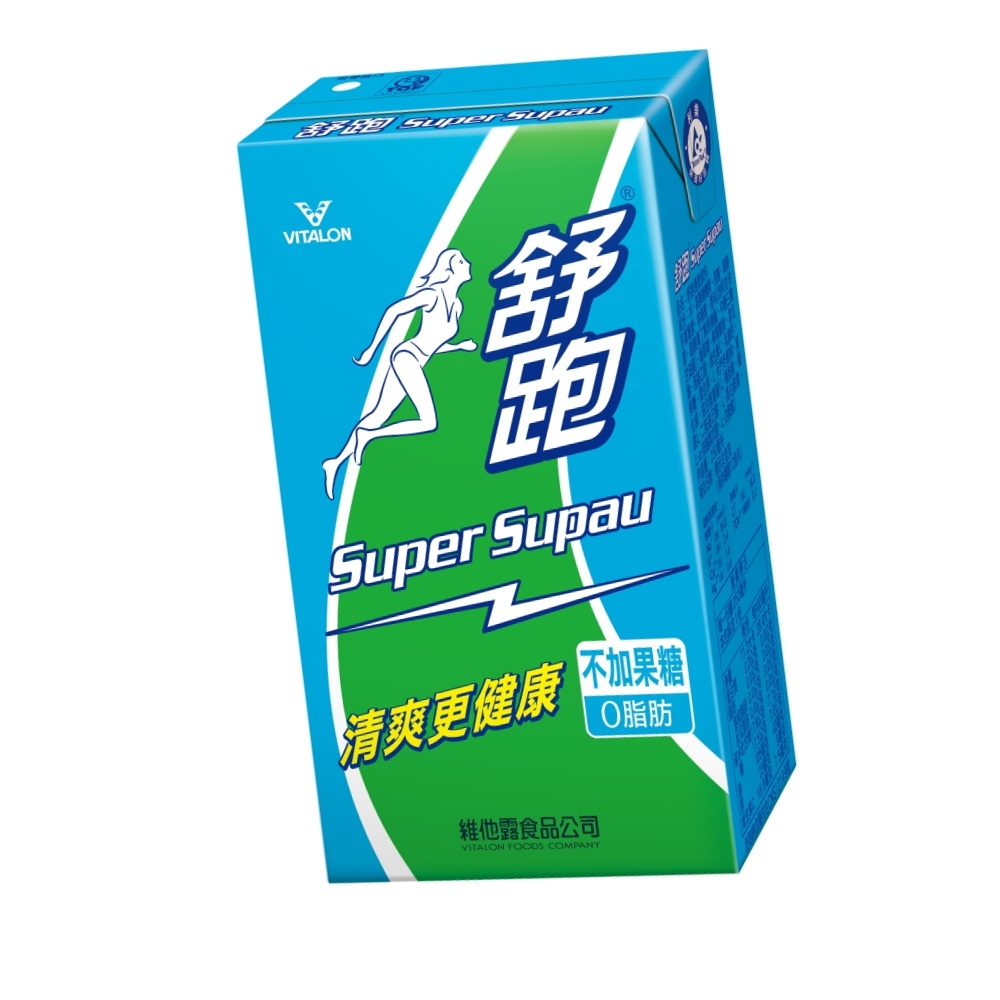鋁箔包: (212, 9, 832, 931)
